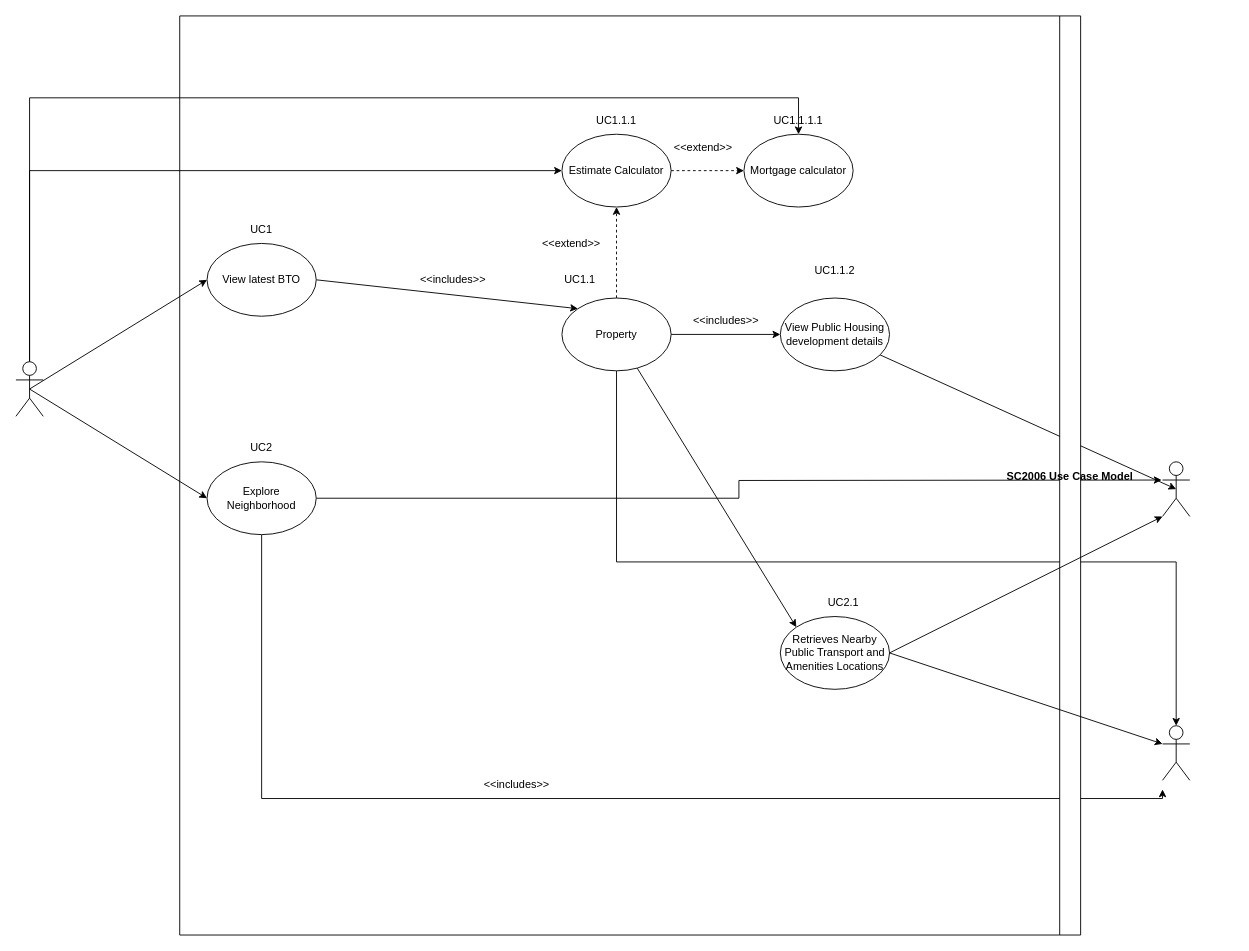
Image size: 1249x951. Some labels were removed from this diagram. Each missing label, with the centre of its shape:
"Firebase" belongs at [1176,488].
"Google Place api" belongs at [1176,752].
"User" belongs at [29,388].
